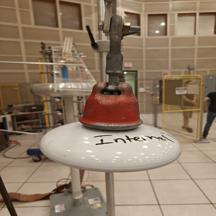insulator: (29, 78, 188, 178)
